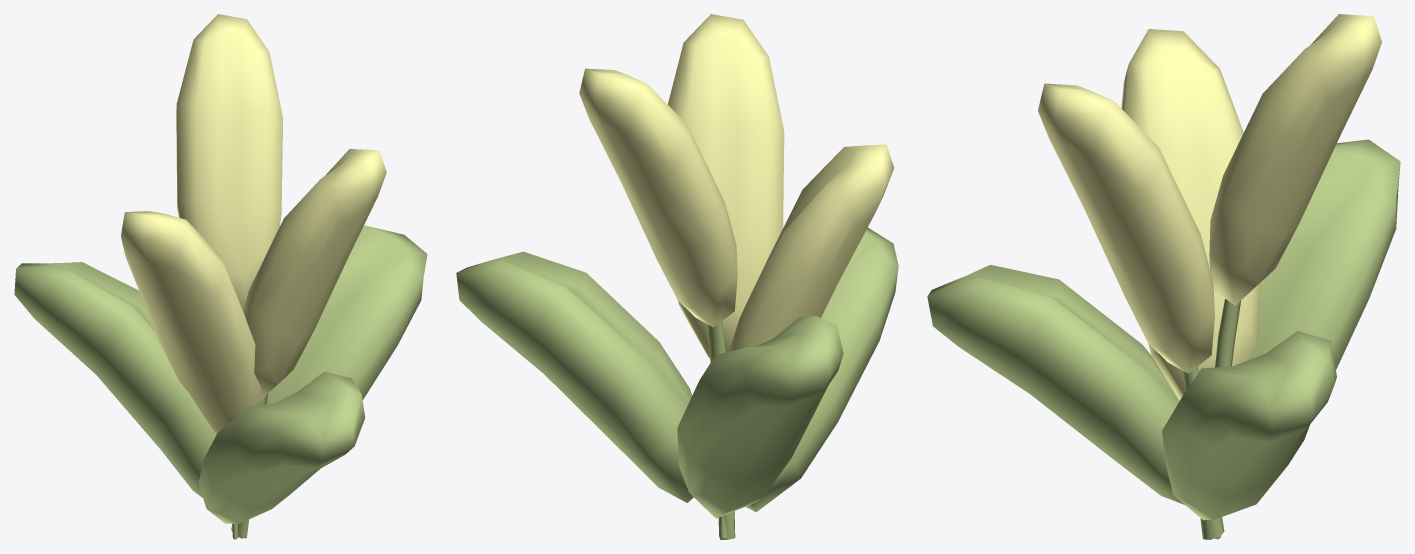
The model's file is Flower_14.fbx.
The picture shows the model from 3 angles, left to right: view 1: azimuth 30°, elevation 25°; view 2: azimuth 150°, elevation 25°; view 3: azimuth 270°, elevation 25°; orthographic projection. The views are drawn at different scales.
Parts seen in each view (by area): view 1: polySurface960; view 2: polySurface960; view 3: polySurface960.
Boxes of the visible parts, x1=… form: polySurface960: x1=14, y1=14, x2=427, y2=539; polySurface960: x1=456, y1=14, x2=898, y2=539; polySurface960: x1=927, y1=14, x2=1400, y2=539.
Bounding box in the file's own units: 37.01 × 43.77 × 34.21.
